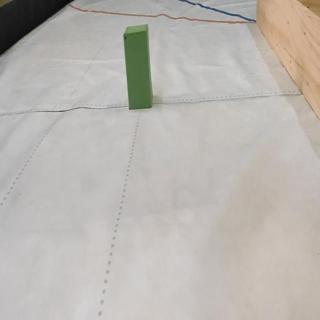greenbox: (125, 29, 152, 109)
